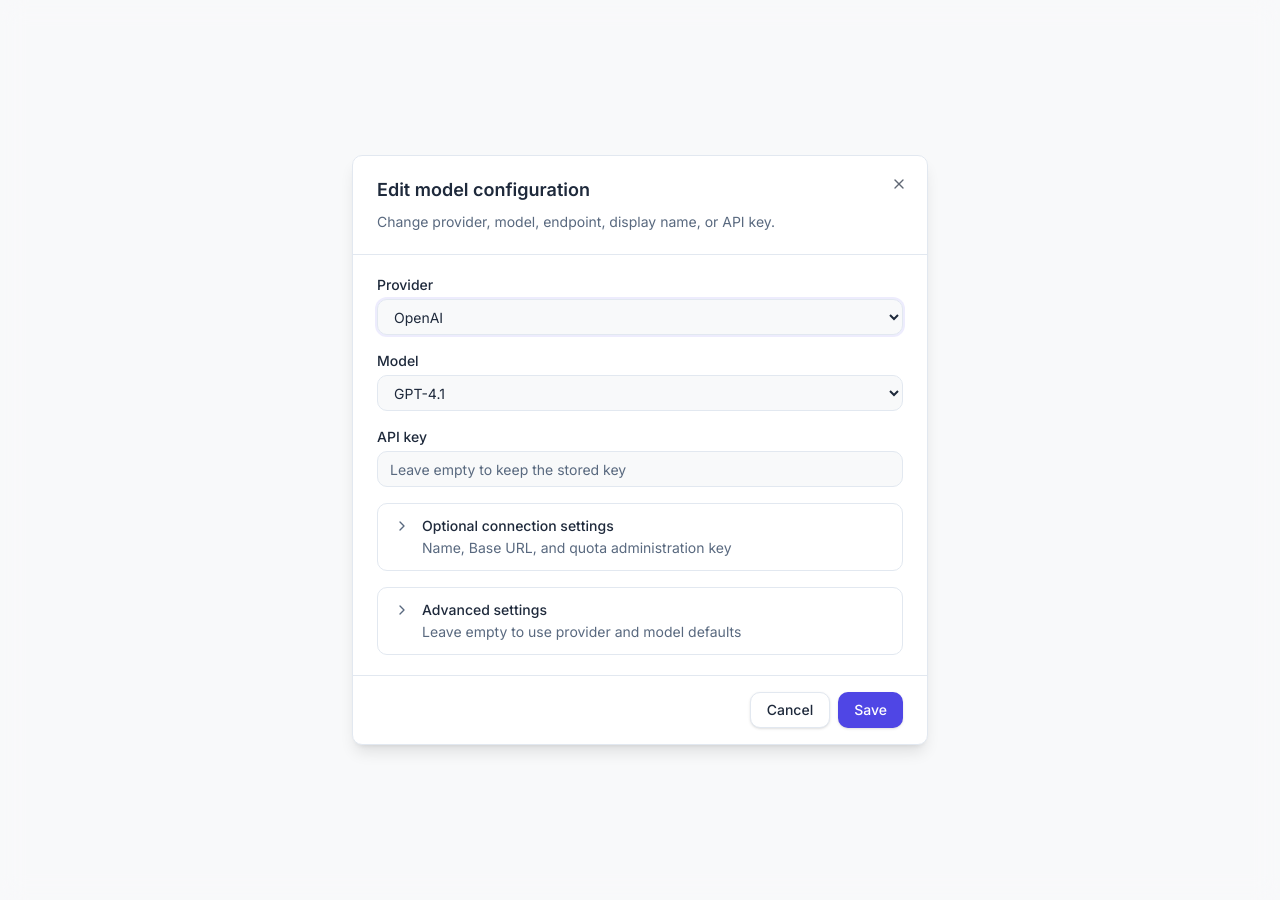
Test case: ModelConfigDialog › clears the model and disables save when a provider has no runnable models
Select "Anthropic" in the dropdown labelled "Provider". click: coordinates (640, 317)
box: [377, 299, 903, 335]
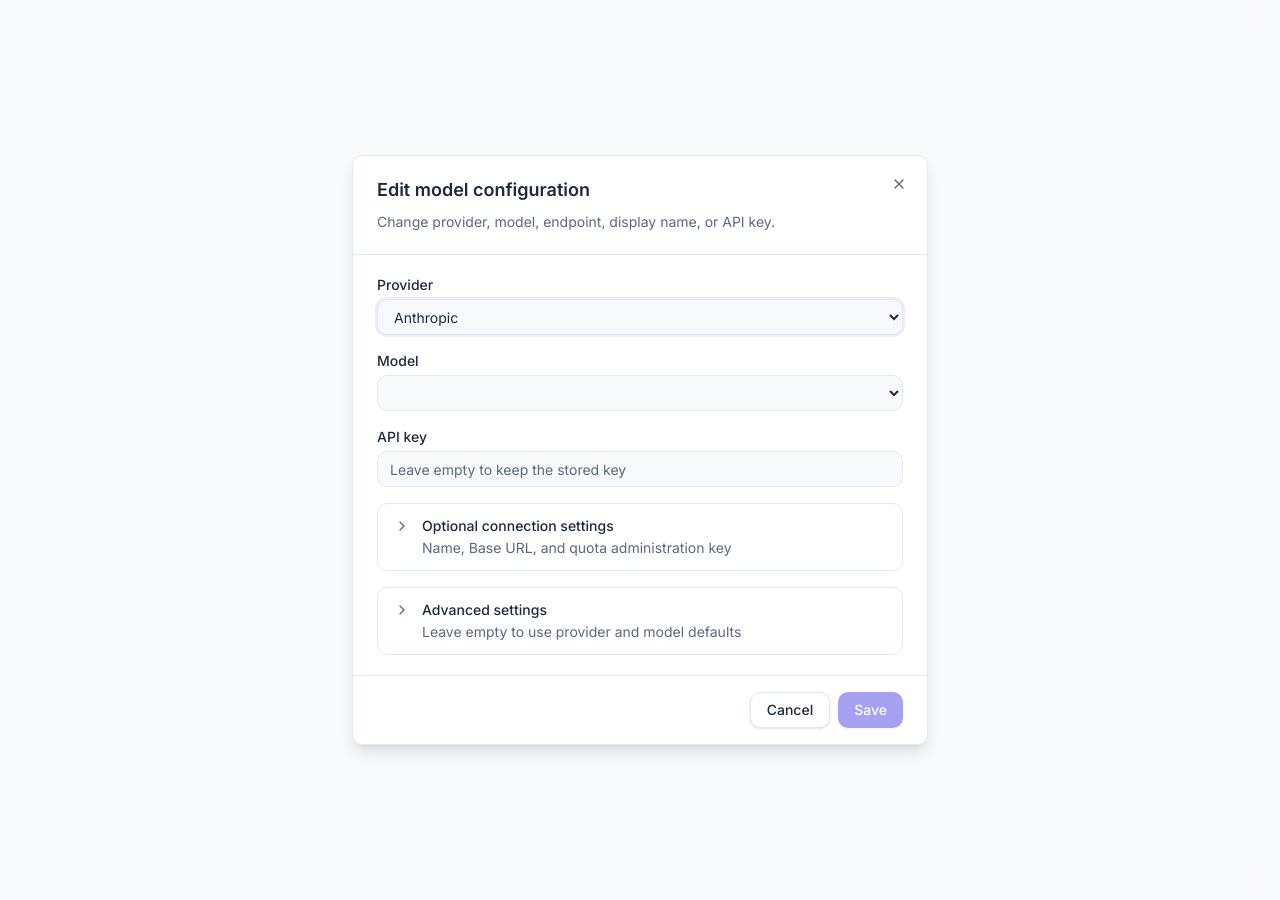
Now the button "Save" is disabled, box [838, 692, 903, 728]
